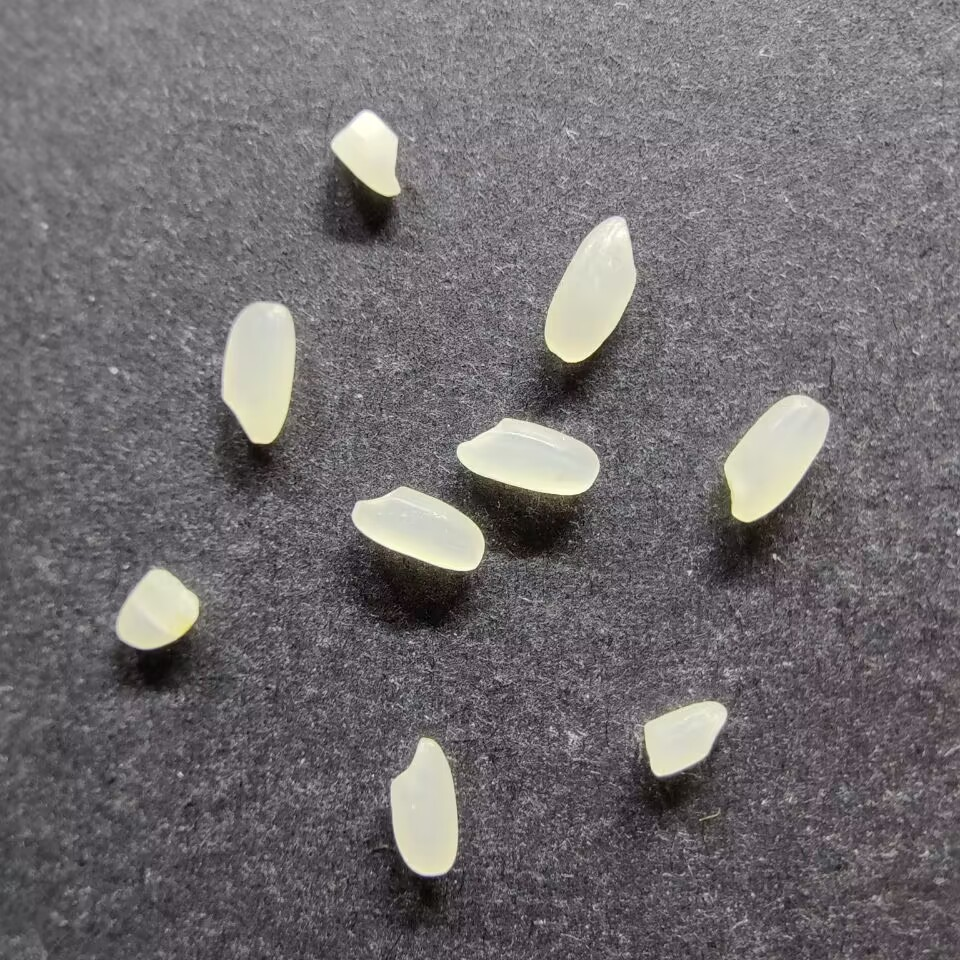broken: (114, 568, 199, 650), (643, 700, 727, 778), (329, 109, 402, 197)
rice: (722, 393, 829, 523), (543, 216, 637, 363), (350, 485, 485, 572), (455, 417, 600, 495), (220, 301, 296, 444), (388, 737, 457, 877)
